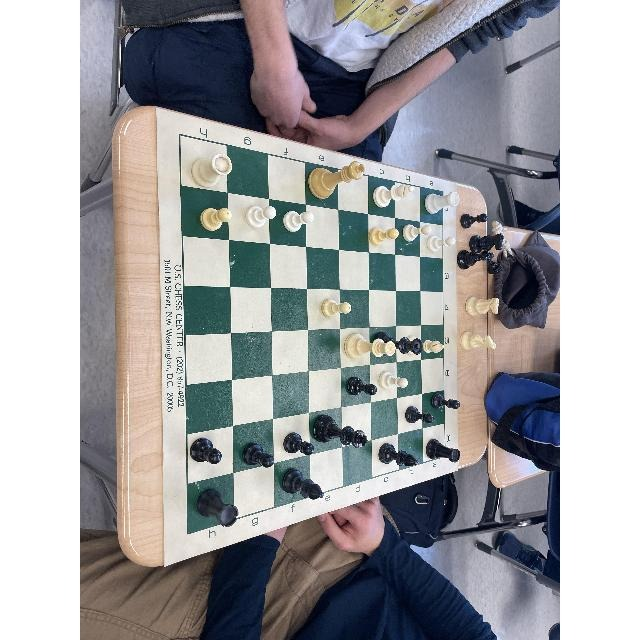black-bishop: (346, 331, 432, 359), (312, 413, 370, 449), (426, 434, 464, 465)
black-pawn: (375, 436, 420, 474), (238, 438, 276, 474), (187, 433, 225, 468), (280, 429, 318, 458), (346, 373, 378, 397), (405, 403, 435, 425), (432, 393, 460, 414)
black-rook: (277, 464, 327, 504), (192, 485, 241, 525)
white-bishop: (185, 149, 241, 187)
white-king: (302, 161, 377, 196)
white-pawn: (314, 290, 359, 324), (368, 181, 422, 209), (240, 199, 278, 237), (196, 204, 237, 235), (374, 367, 412, 395), (364, 223, 402, 250), (403, 224, 446, 246), (280, 208, 315, 235), (432, 189, 468, 213), (422, 333, 447, 356)
